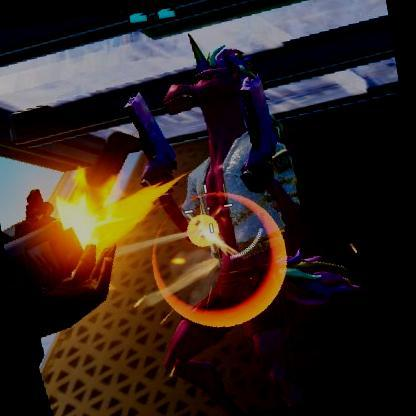person: (157, 53, 314, 404)
